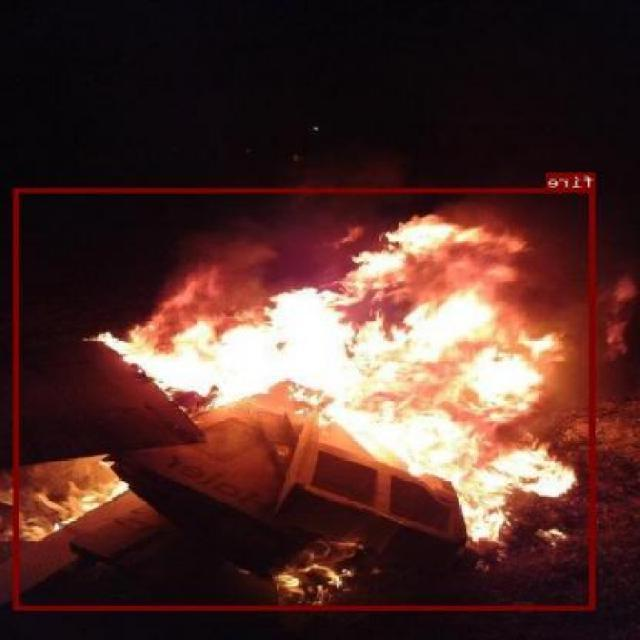Fire: (14, 188, 596, 610)
